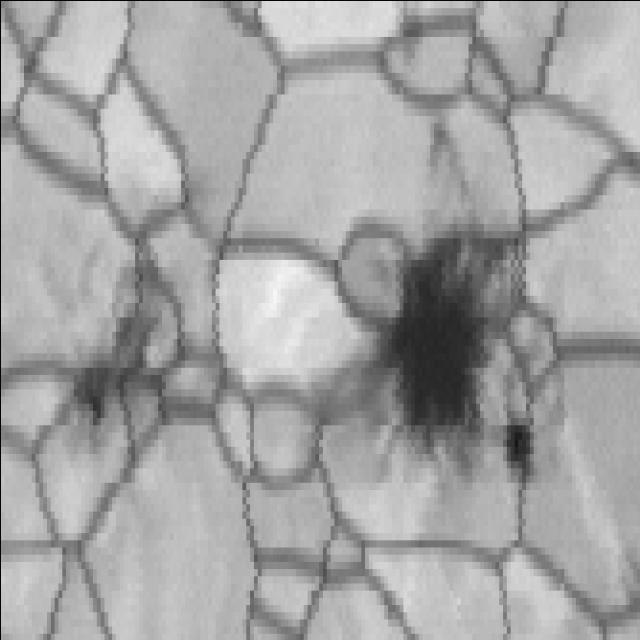good_void: (353, 215, 540, 512), (25, 191, 183, 478), (406, 109, 484, 213), (489, 405, 545, 492)
